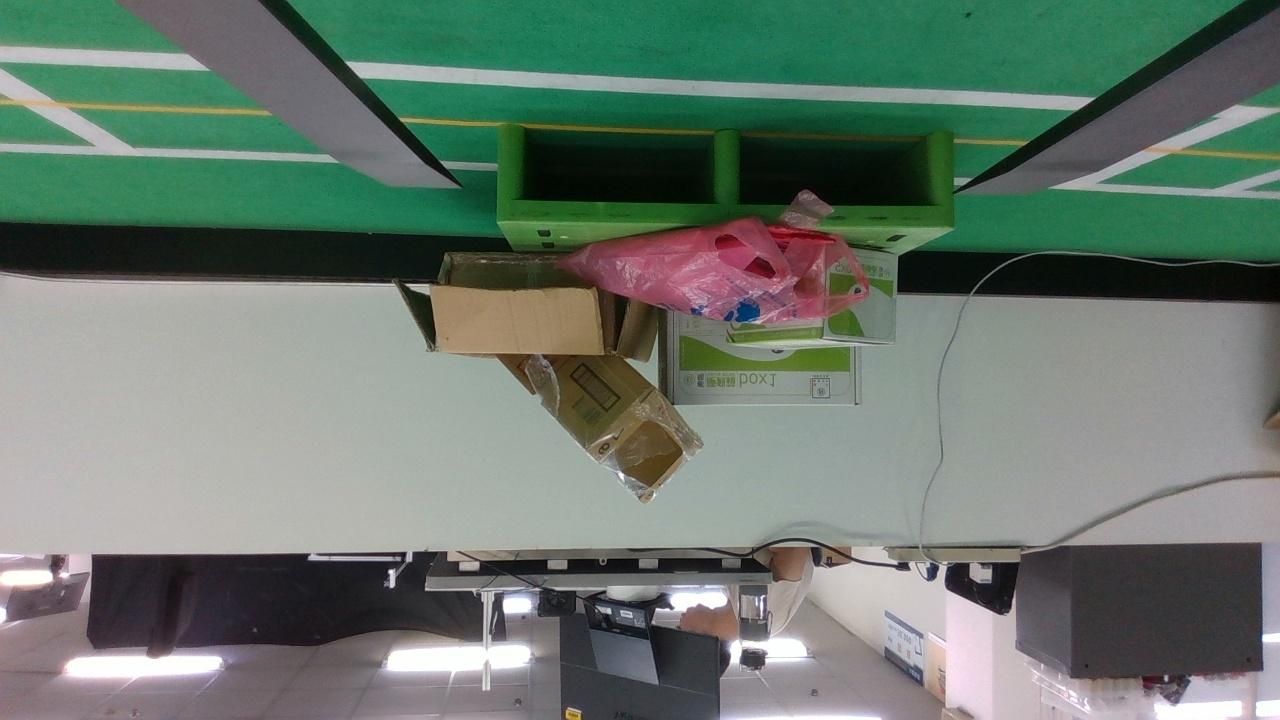Pallet: (498, 127, 955, 228)
